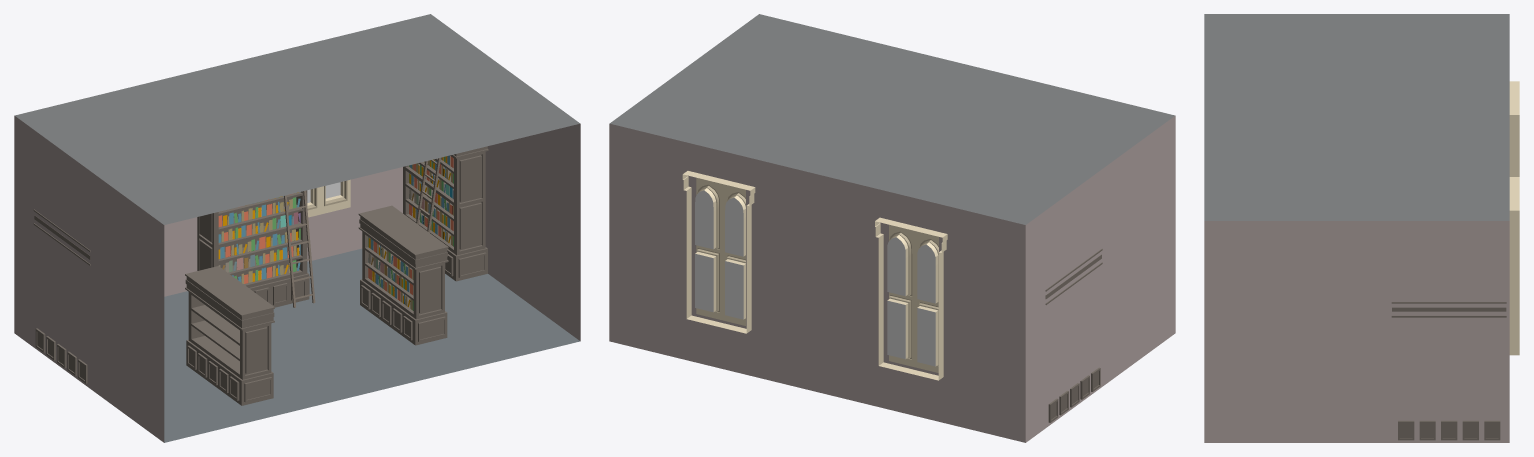
Rendered from LibraryFull 02.fbx.
The picture shows the model from 3 angles, left to right: view 1: azimuth 30°, elevation 25°; view 2: azimuth 150°, elevation 25°; view 3: azimuth 270°, elevation 25°; orthographic projection.
Visible parts, largest first — view 1: Buidling, BooksShelf6, BooksShelf3, Bookschelf1, Bookschelf2, Bookschelf3, Window6, BooksForShelf3, BooksForShelf4, BooksForShelf5, BooksForShelf2, BooksForShelf1; view 2: Buidling, Window6, Window4, Bookschelf3; view 3: Buidling, Bookschelf1, Window6, Window4.
Part boxes in pixels (left/top/right/bottom): Buidling: left=14, top=14, right=580, bottom=442; BooksShelf6: left=185, top=266, right=274, bottom=405; BooksShelf3: left=358, top=205, right=448, bottom=345; Bookschelf1: left=403, top=146, right=488, bottom=281; Bookschelf2: left=197, top=190, right=309, bottom=307; Bookschelf3: left=33, top=209, right=90, bottom=383; Window6: left=307, top=179, right=350, bottom=217; BooksForShelf3: left=218, top=228, right=300, bottom=259; BooksForShelf4: left=218, top=212, right=300, bottom=242; BooksForShelf5: left=218, top=197, right=300, bottom=227; BooksForShelf2: left=218, top=244, right=300, bottom=272; BooksForShelf1: left=232, top=260, right=300, bottom=284; Buidling: left=609, top=14, right=1175, bottom=442; Window6: left=682, top=171, right=755, bottom=333; Window4: left=875, top=217, right=947, bottom=380; Bookschelf3: left=1045, top=248, right=1102, bottom=422; Buidling: left=1204, top=14, right=1509, bottom=442; Bookschelf1: left=1391, top=302, right=1506, bottom=440; Window6: left=1509, top=177, right=1519, bottom=355; Window4: left=1509, top=81, right=1519, bottom=176.
Bounding box in the file's own units: 13.11 × 6.5 × 8.37.
